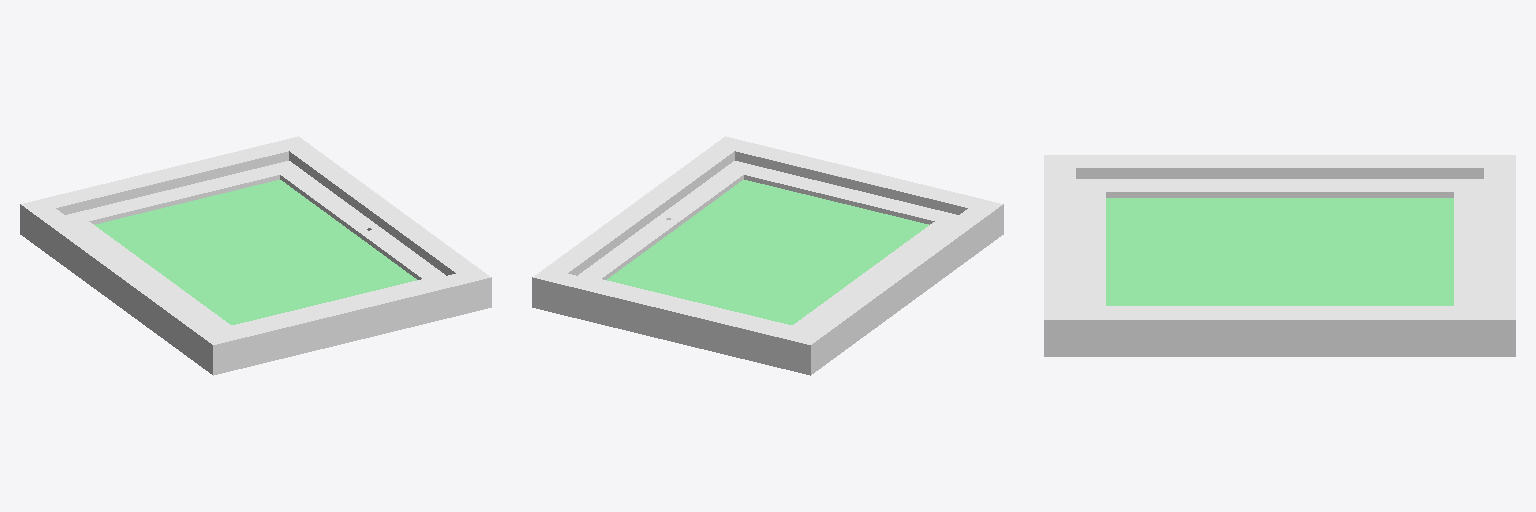
robot.urdf — window:
<?xml version="1.0" ?>
<robot name="window">
	<link name="base"/>
	<link name="link_0">
		<visual name="out-frame">
			<origin xyz="0 0 0"/>
			<geometry>
				<mesh filename="texture_dae/untitled.dae" scale="0.5 0.5 0.5"/>
			</geometry>
		</visual>
		<collision>
			<origin xyz="0 0 0"/>
			<geometry>
				<mesh filename="texture_dae/untitled.dae" scale="0.5 0.5 0.5"/>
			</geometry>
		</collision>
	</link>
	<joint name="joint_0" type="fixed">
		<origin rpy="1.570796326794897 0 -1.570796326794897" xyz="0 0 0"/>
		<child link="link_0"/>
		<parent link="base"/>
	</joint>
	<link name="link_1">
		<visual name="surf-board">
			<origin xyz="0.32344063140201634 -0.26581486684187894 0"/>
			<geometry>
				<mesh filename="texture_dae/untitled1.dae" scale="0.5 0.5 0.5"/>
			</geometry>
		</visual>
		<collision>
			<origin xyz="0.32344063140201634 -0.26581486684187894 0"/>
			<geometry>
				<mesh filename="texture_dae/untitled1.dae" scale="0.5 0.5 0.5"/>
			</geometry>
		</collision>
	</link>
	<joint name="joint_1" type="revolute">
		<origin xyz="-0.32344063140201634 0.26581486684187894 0"/>
		<axis xyz="0 -1 0"/>
		<child link="link_1"/>
		<parent link="link_0"/>
		<limit lower="0" upper="1.5079644737231006"/>
	</joint>
	<link name="link_2">
		<visual name="handle">
			<origin xyz="0 0 0"/>
			<geometry>
				<mesh filename="texture_dae/9969510.dae" scale="0.9548059506629005 0.9548059506629005 0.9548059506629005"/>
			</geometry>
		</visual>
		<collision>
			<origin xyz="0 0 0"/>
			<geometry>
				<mesh filename="texture_dae/9969510.dae" scale="0.9548059506629005 0.9548059506629005 0.9548059506629005"/>
			</geometry>
		</collision>
	</link>
	<joint name="joint_2" type="revolute">
		<origin xyz="0.6199794040608984 -0.26581486684187894 0.03220453267244513"/>
		<child link="link_2"/>
		<parent link="link_1"/>
		<axis xyz="0 0 1"/>
		<limit lower="0" upper="1.5079644737231006"/>
	</joint>
</robot>

--- Facts derived from the render (not from the file) ---
The picture shows the robot from 3 angles, left to right: view 1: azimuth 30°, elevation 25°; view 2: azimuth 150°, elevation 25°; view 3: azimuth 270°, elevation 25°; orthographic projection.
Model window with 4 links and 3 joints (2 revolute, 1 fixed), rooted at base, posed all joints at 0.
Visible links, largest first — view 1: link_1, link_0; view 2: link_1, link_0; view 3: link_1, link_0.
Boxes of the visible links, box(x1,y1,x2,y2) form: link_1: box(56, 151, 455, 329); link_0: box(20, 136, 491, 375); link_1: box(568, 151, 967, 329); link_0: box(532, 136, 1003, 375); link_1: box(1076, 168, 1483, 306); link_0: box(1044, 155, 1515, 356).
Bounding box of the posed robot: 0.625 × 0.75 × 0.0666 m (x, y, z).
Meshes: 3 distinct files referenced, 3 mesh visuals loaded (3 Collada DAE).